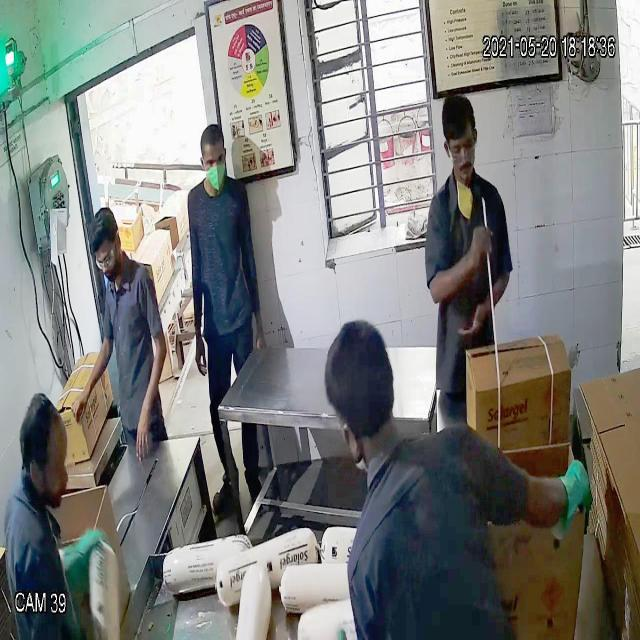glasses: (439, 138, 481, 164), (92, 248, 116, 270)
no-glass: (200, 154, 228, 172)
